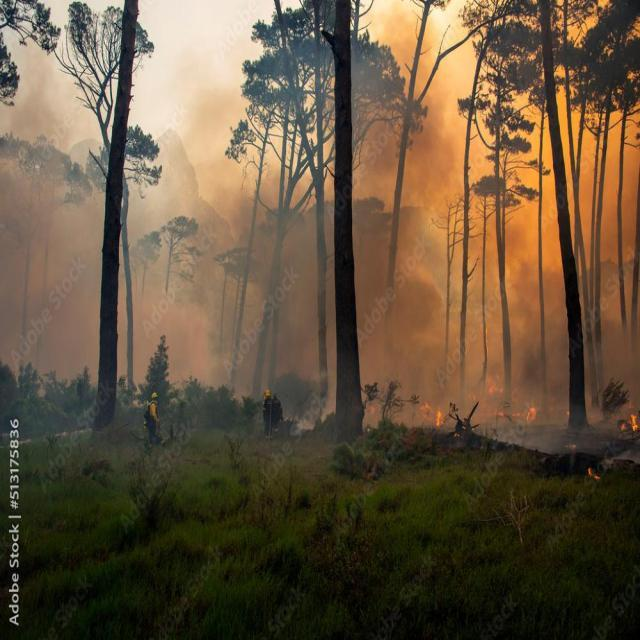Fire: (423, 382, 452, 428)
Smoke: (125, 41, 308, 432)
